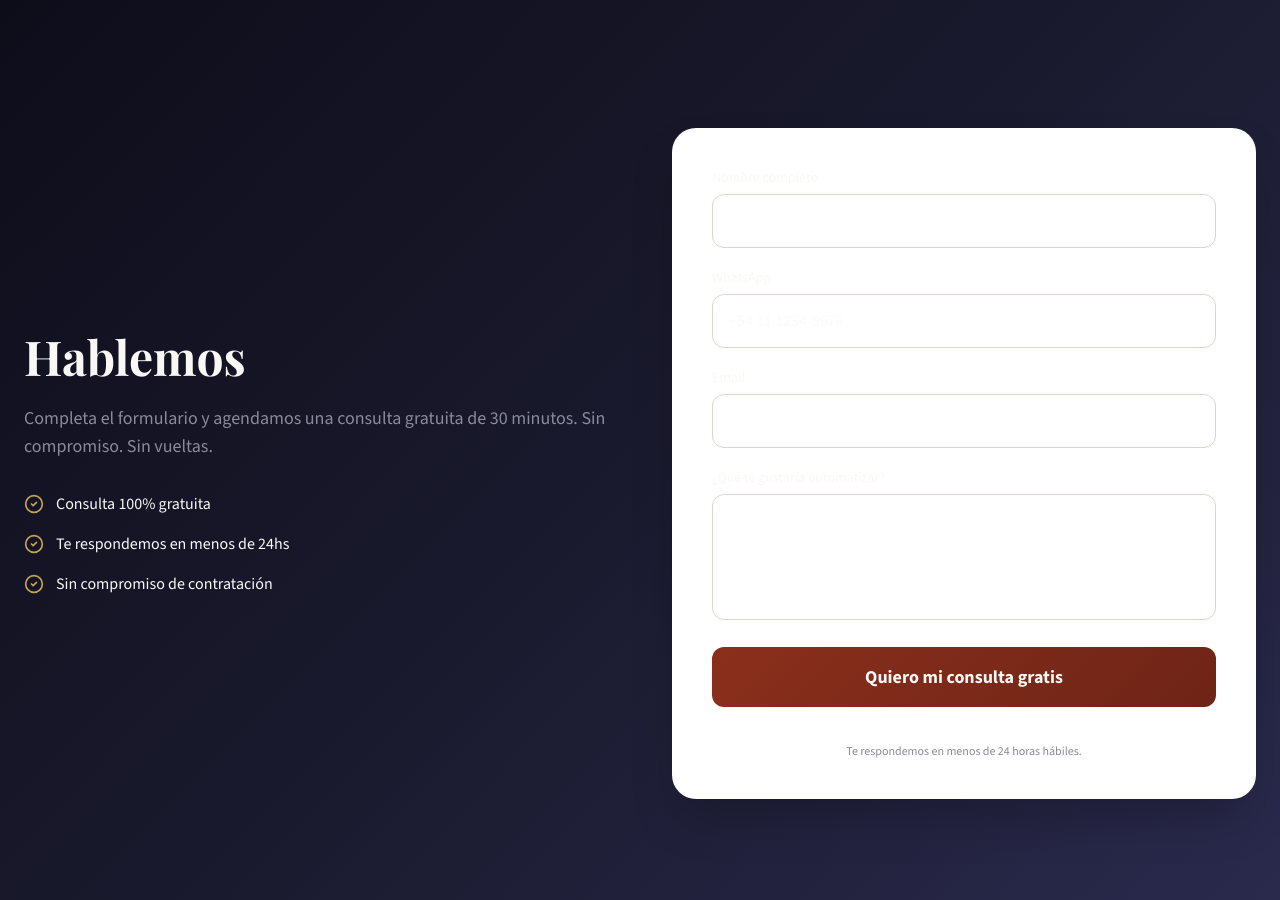
Test: ContactForm › should show validation errors when submitting empty form
This screenshot has width=1280, height=900.
What coordinates should you click on to do the following:
click the button "Quiero mi consulta gratis"
I would click on:
 (964, 677)
Its box is [712, 647, 1216, 707].
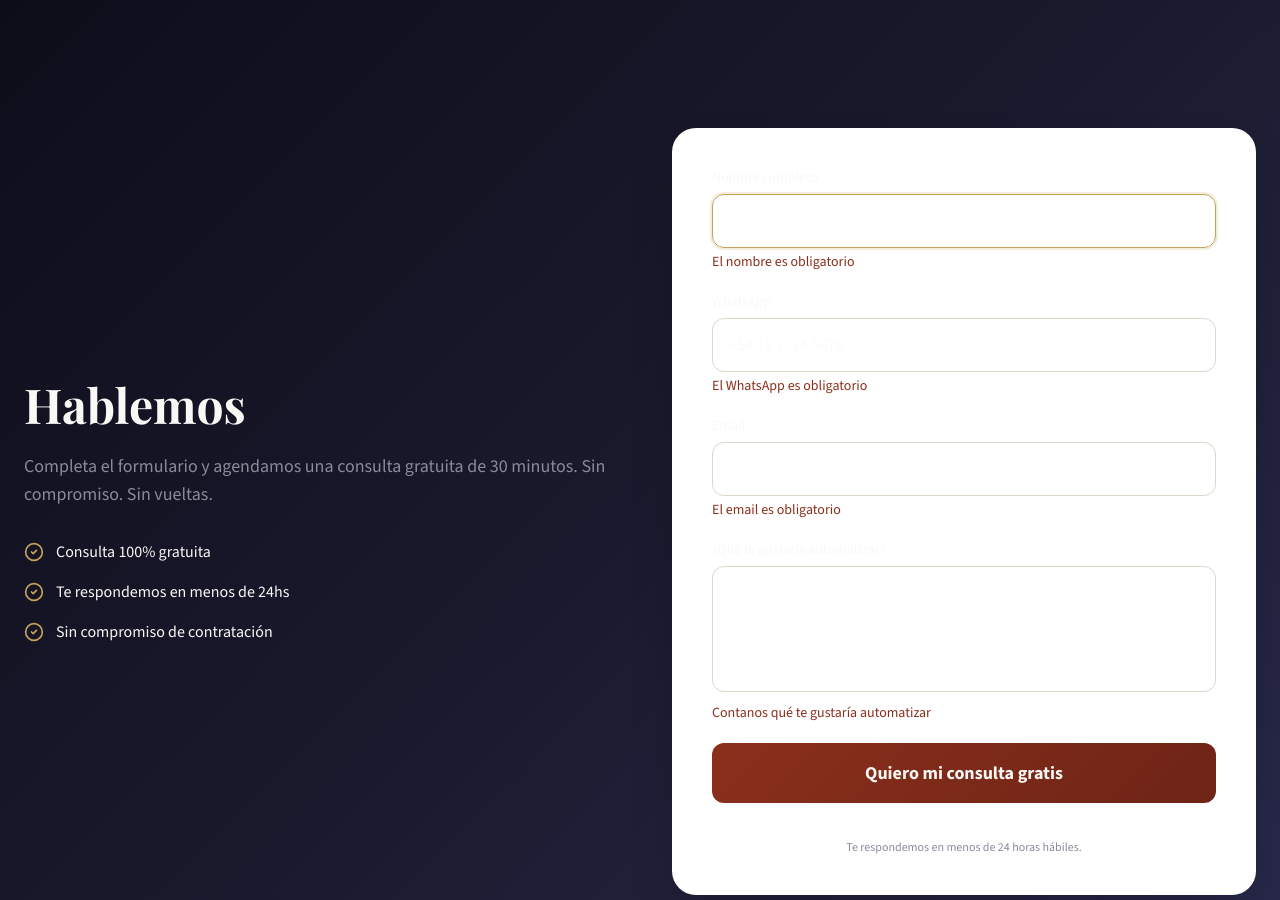
Now the text "El nombre es obligatorio" is shown, box [712, 252, 854, 271]
Now the text "El WhatsApp es obligatorio" is shown, box [712, 376, 867, 395]
Now the text "El email es obligatorio" is shown, box [712, 500, 841, 519]
